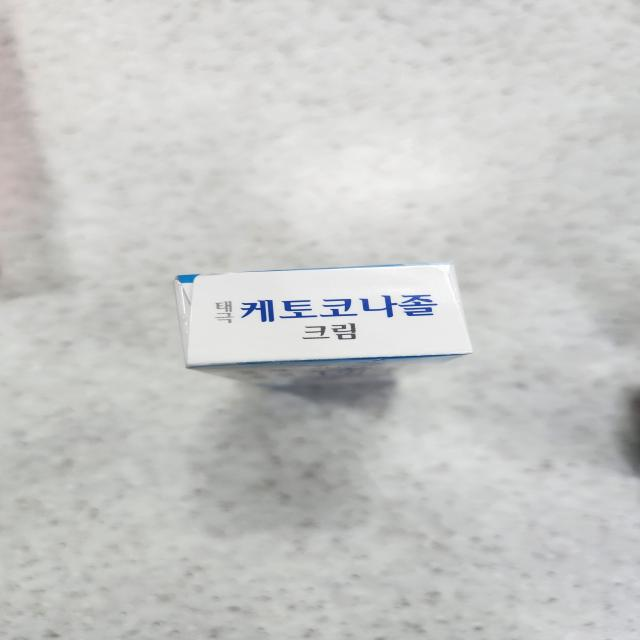box: (176, 264, 470, 371)
